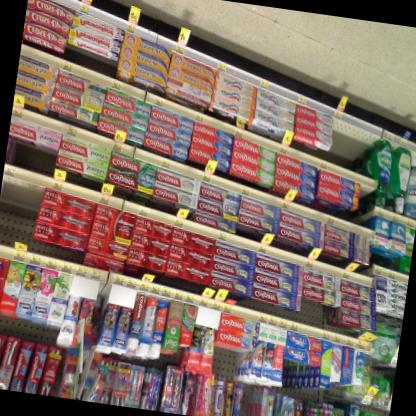empty_space: (0, 171, 46, 235), (332, 116, 376, 165), (238, 385, 251, 416)
